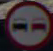No overtake: (7, 1, 48, 40)
